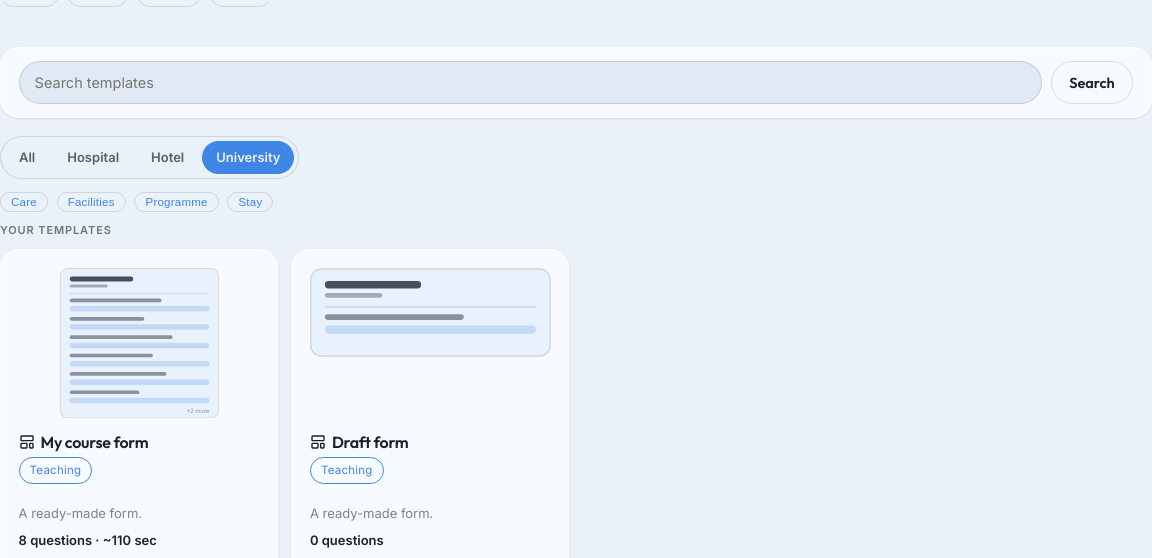
Test case: the industry filter defaults to the org, and every other one stays reachable › "All" brings the other industries back
Click the radio button labelled "All". click: click(27, 157)
box: [19, 149, 35, 165]
(page scrolled)
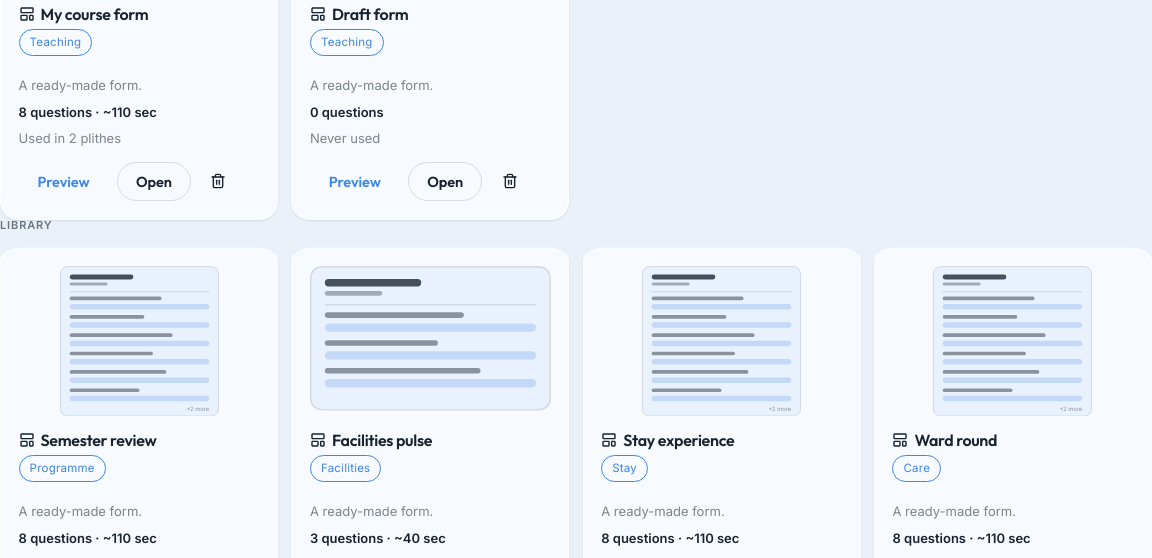
Now the heading "Stay experience" is shown, box [601, 430, 734, 450]
Now the heading "Ward round" is shown, box [892, 430, 997, 450]
